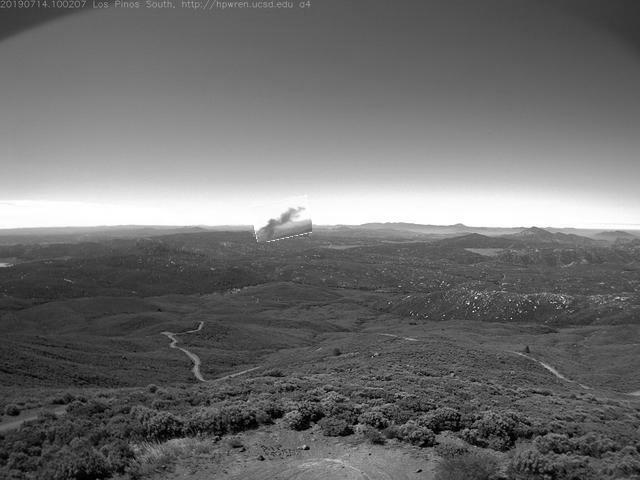smoke: (253, 199, 313, 242)
